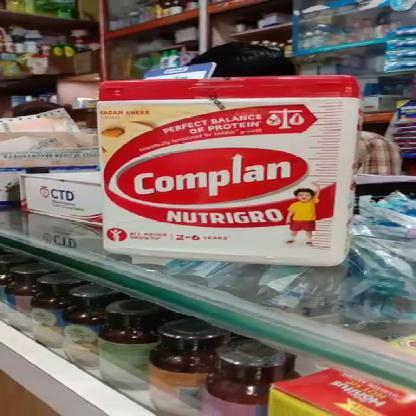Complan Nutrigro Badam Kheer: (100, 76, 366, 260)
